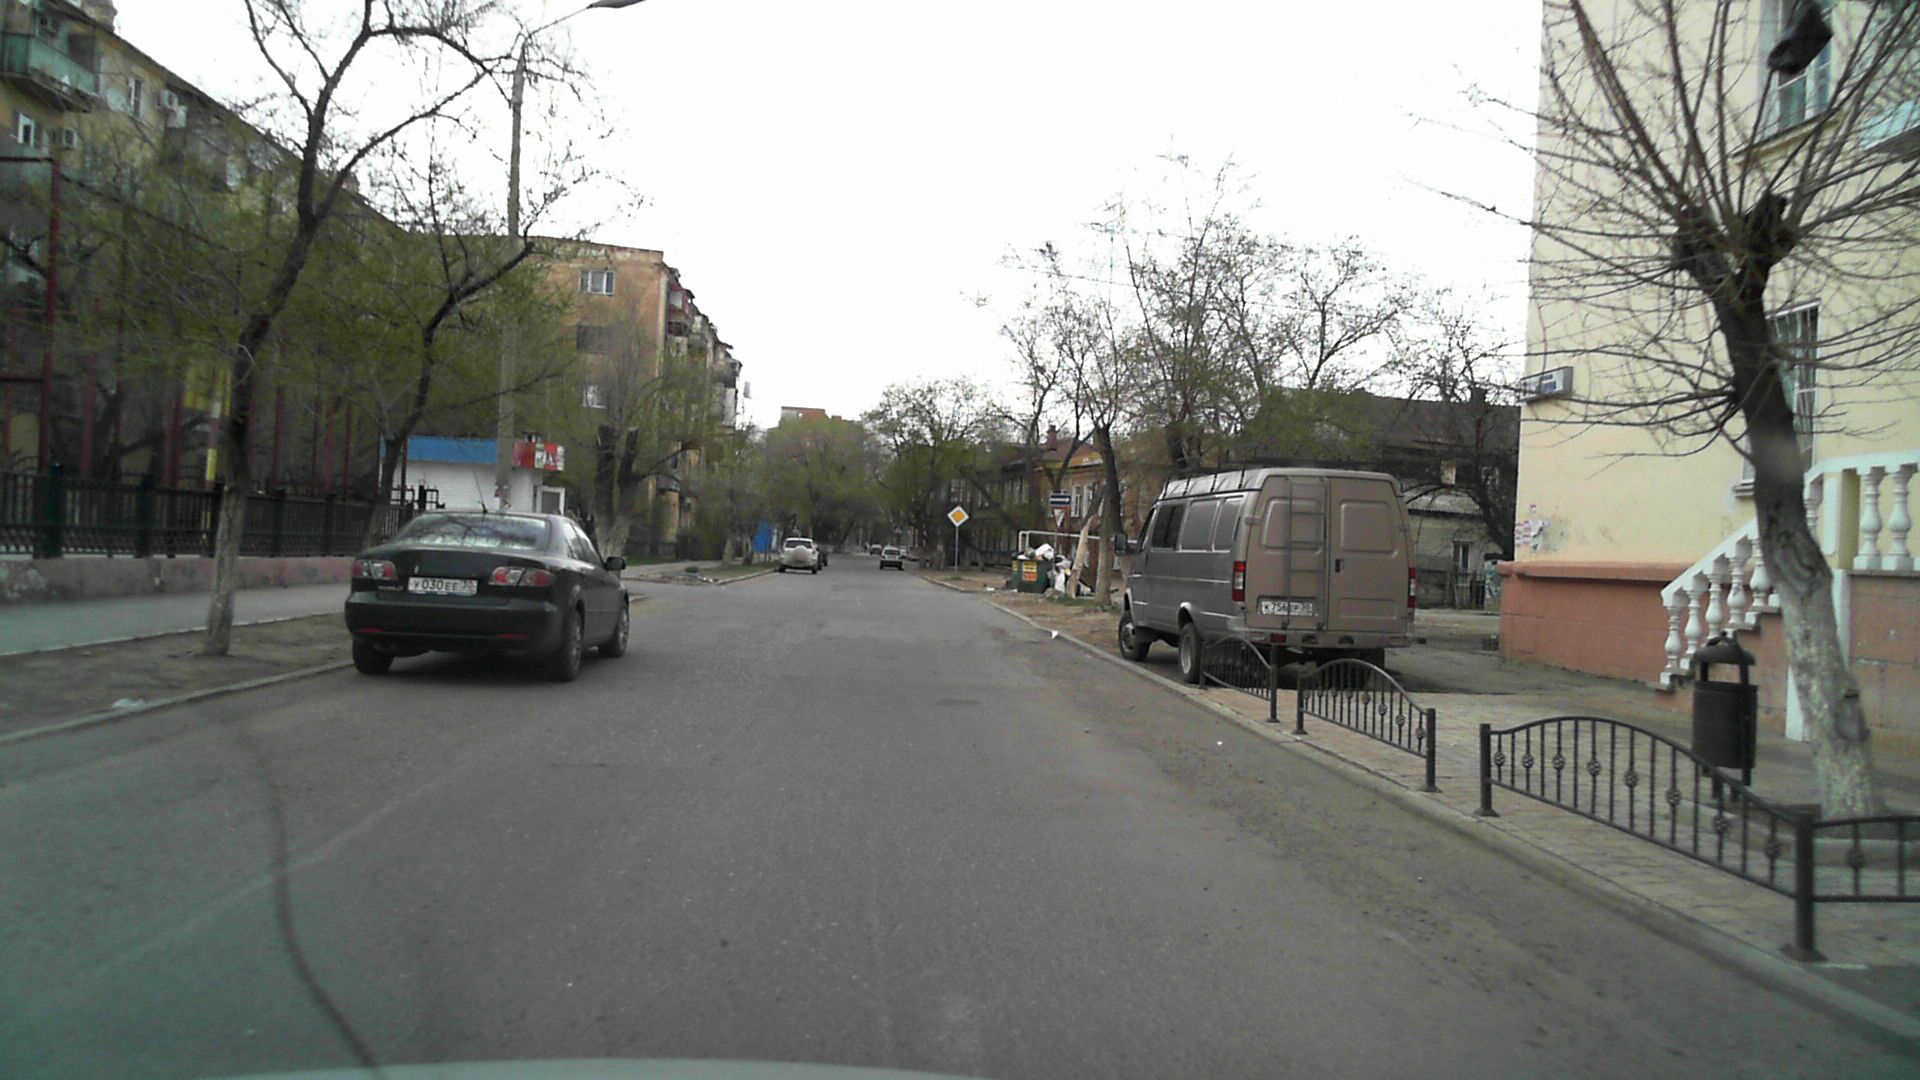Main Road: (945, 504, 969, 527)
One-Way Traffic: (1050, 495, 1072, 505)
